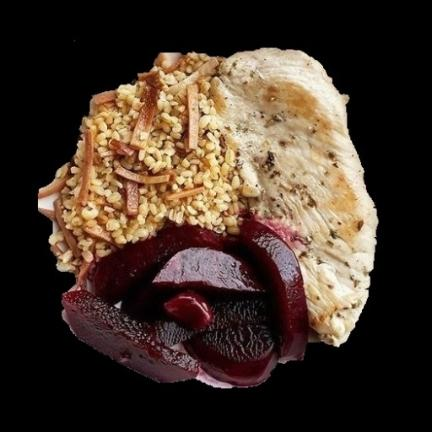beet: (62, 219, 307, 386)
chicken: (212, 48, 377, 346)
